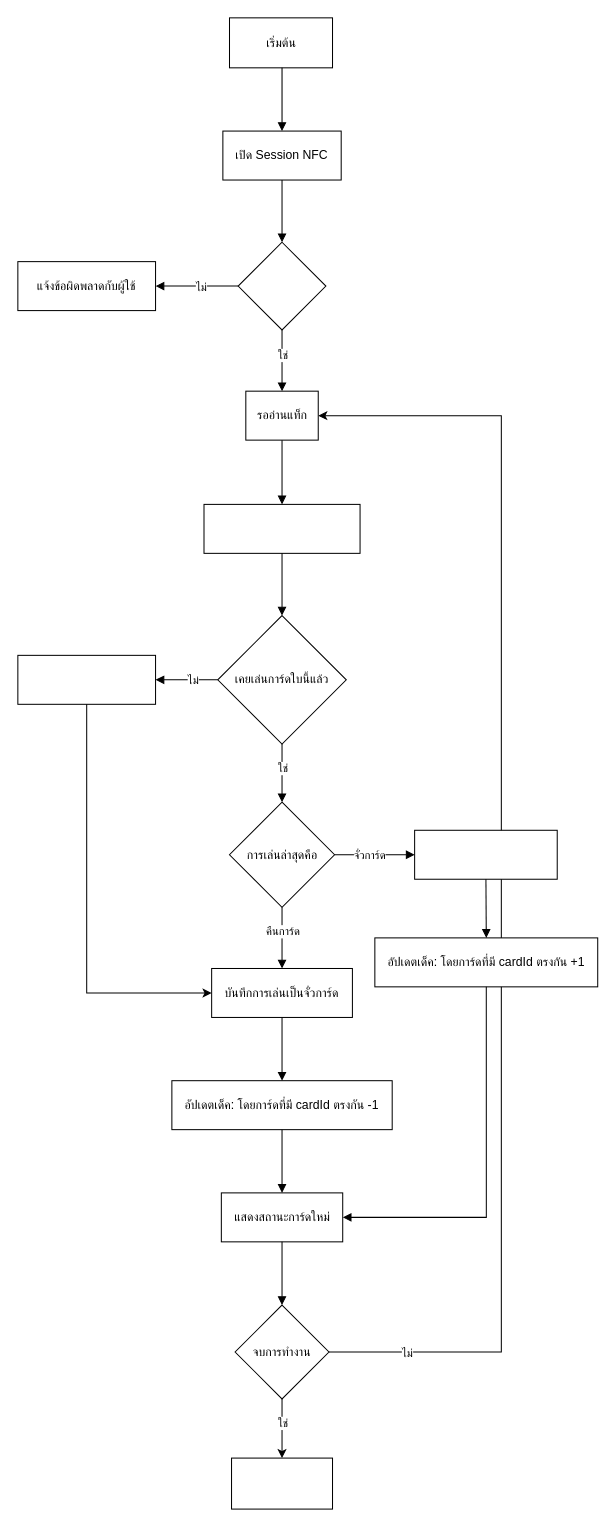
This 616x1527 diagram has some shape labels left out. The shapes that lost their labels are listed below. From the top down, each one's centre as x and y in pixels, then its label:
At (x=281, y=285): "เปิดสำเร็จ".
At (x=281, y=528): "ผู้ใช้สแกนแท็กที่มีข้อมูลการ์ด".
At (x=86, y=679): "บันทึก tagId".
At (x=485, y=854): "บันทึกการเล่นเป็นคืนการ์ด".
At (x=282, y=1483): "สิ้นสุด".
